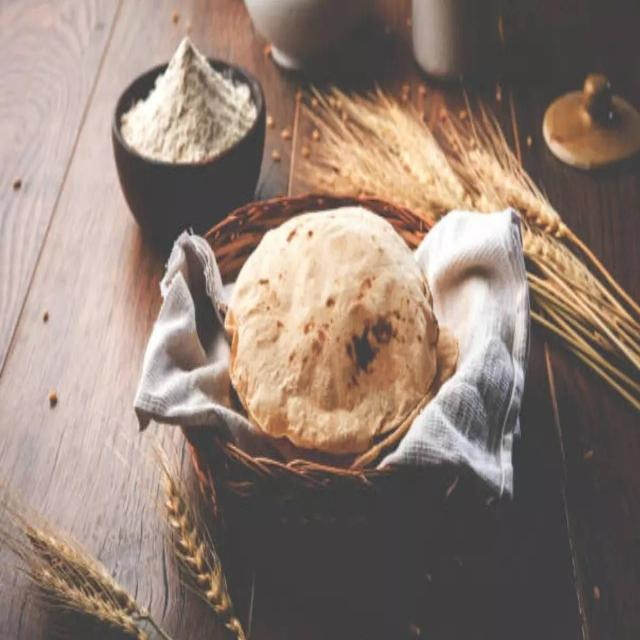RICE BHAKRI: (225, 207, 436, 452), (437, 327, 458, 382)
